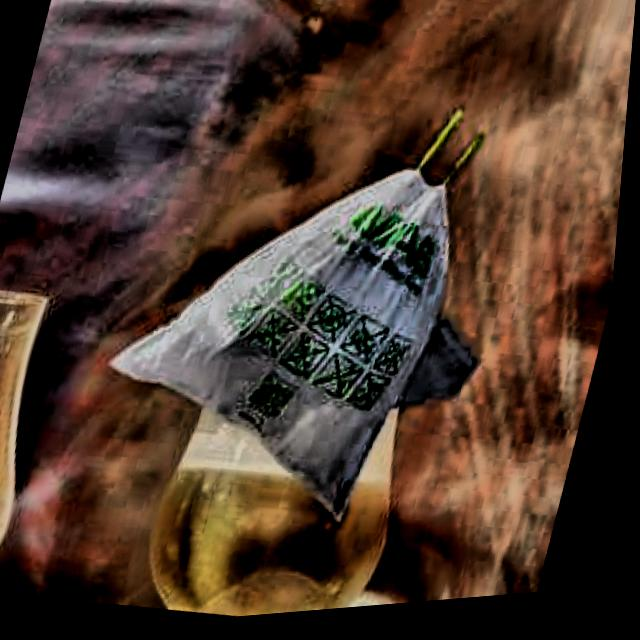Plastic: (86, 64, 534, 560)
